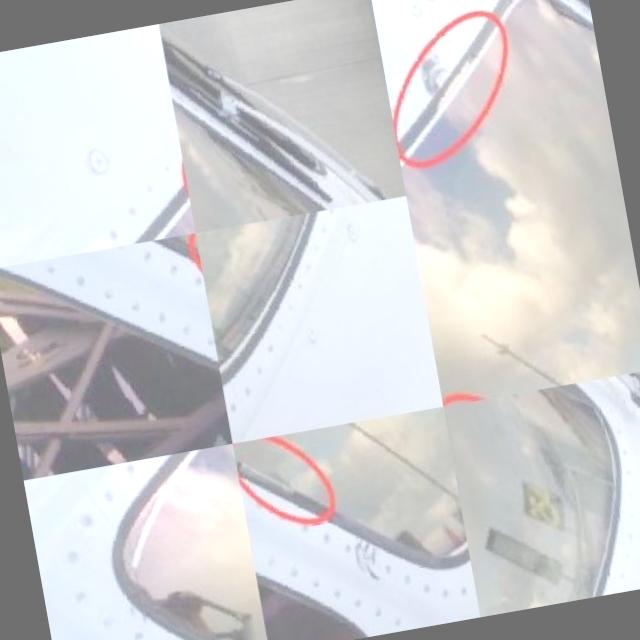crack: (352, 537, 380, 585)
